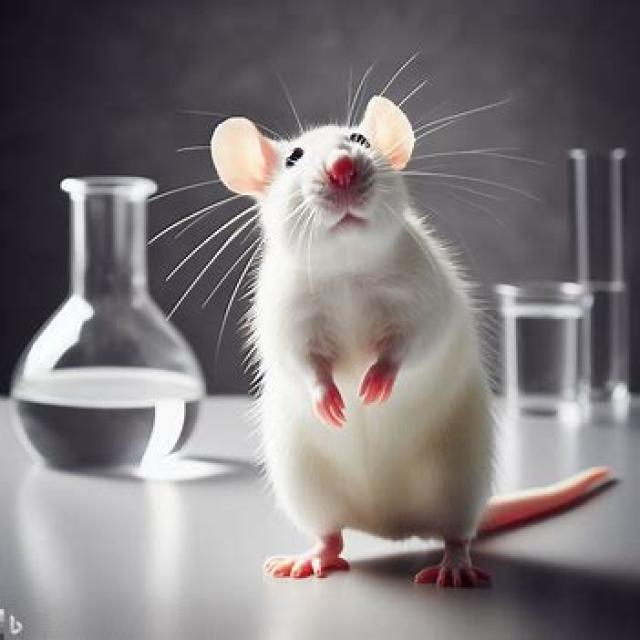rodents: (194, 90, 557, 602)
